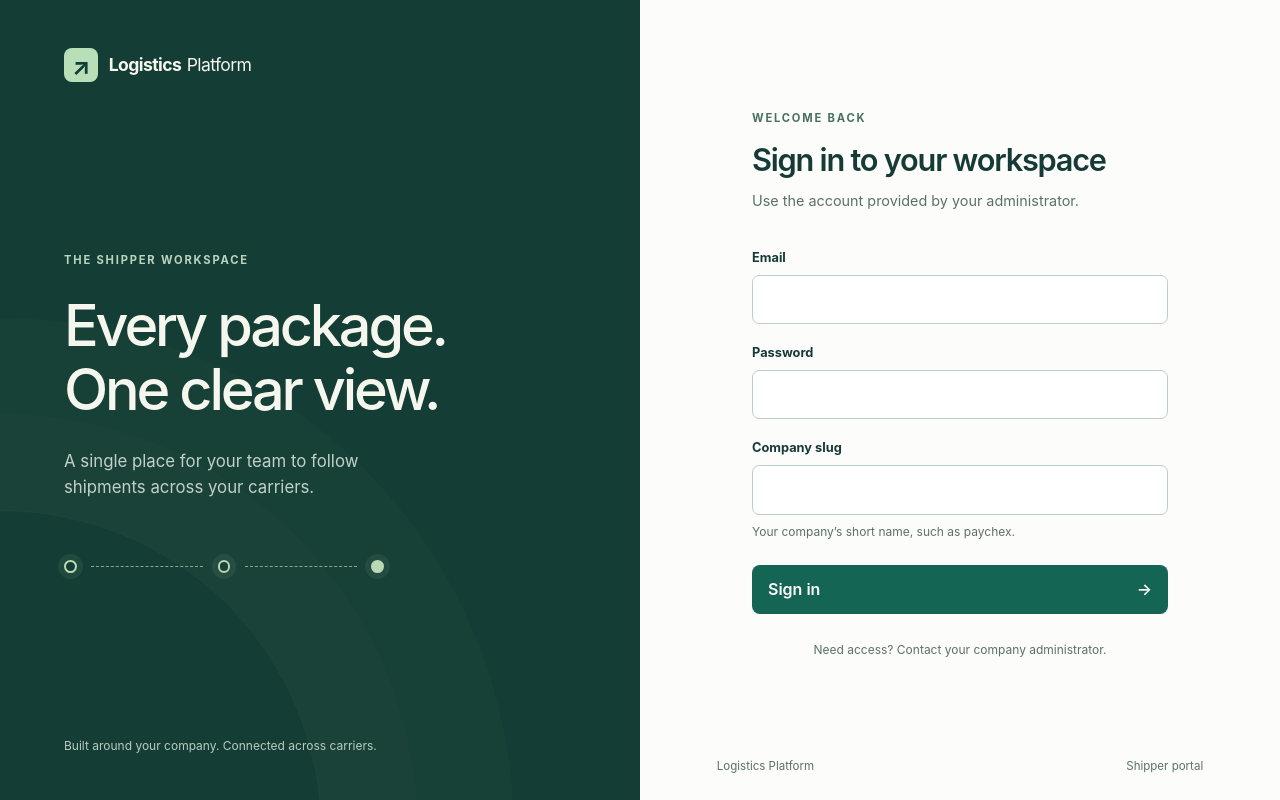
Scenario: shows generic invalid credentials and clears the password
This screenshot has width=1280, height=800.
Expected: the button "Sign in →" is shown, [752,565,1168,614]
In the field labelled "Email": (960, 299) [752,275,1168,324], type "admin@paychex.example"
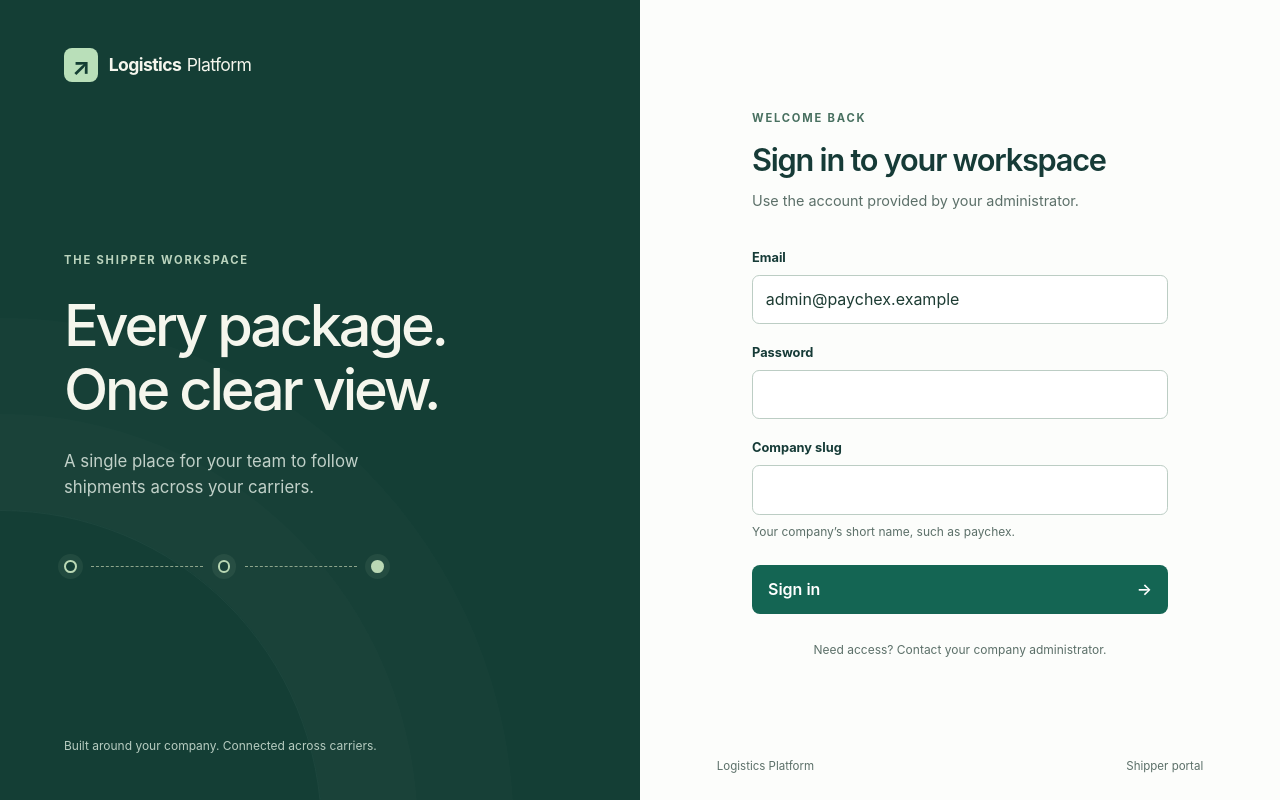
In the password field labelled "Password": (960, 395) [752,370,1168,419], type "synthetic test password"
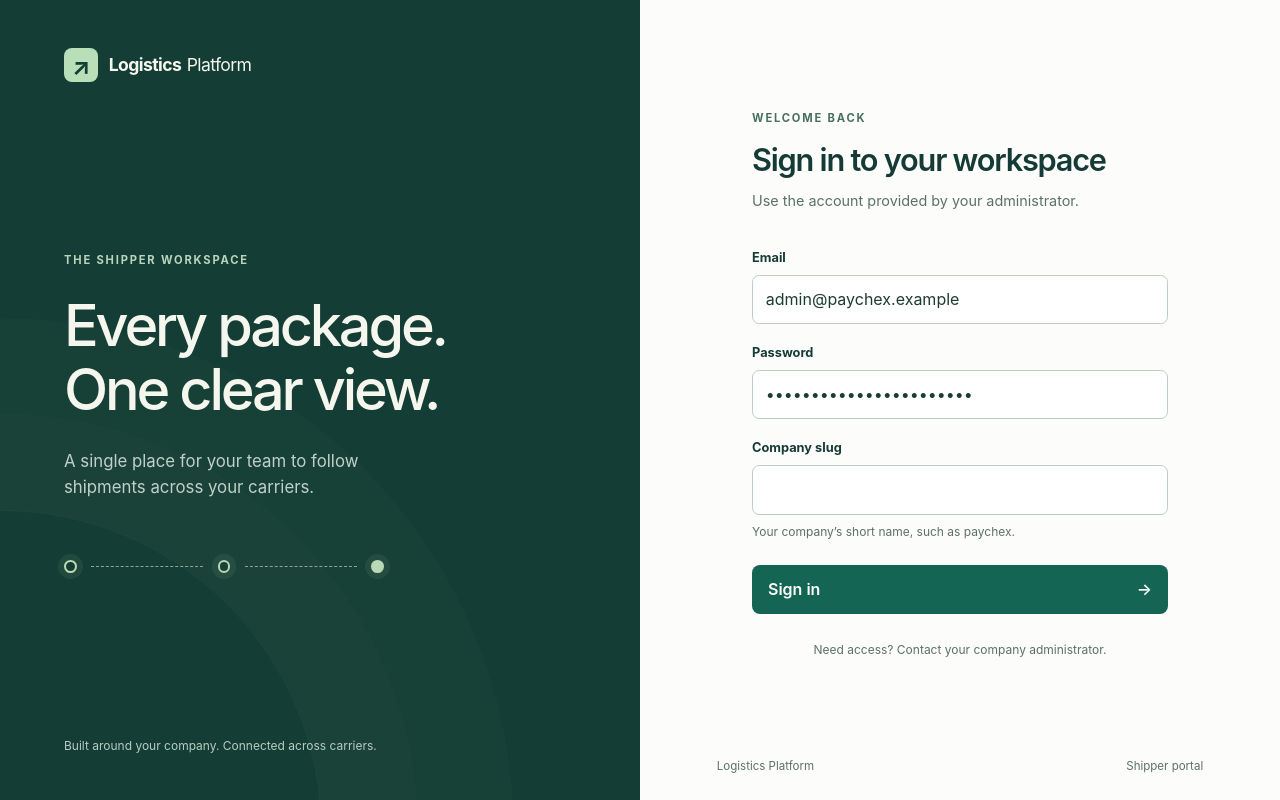
In the field labelled "Company slug": (960, 490) [752,465,1168,515], type "paychex"
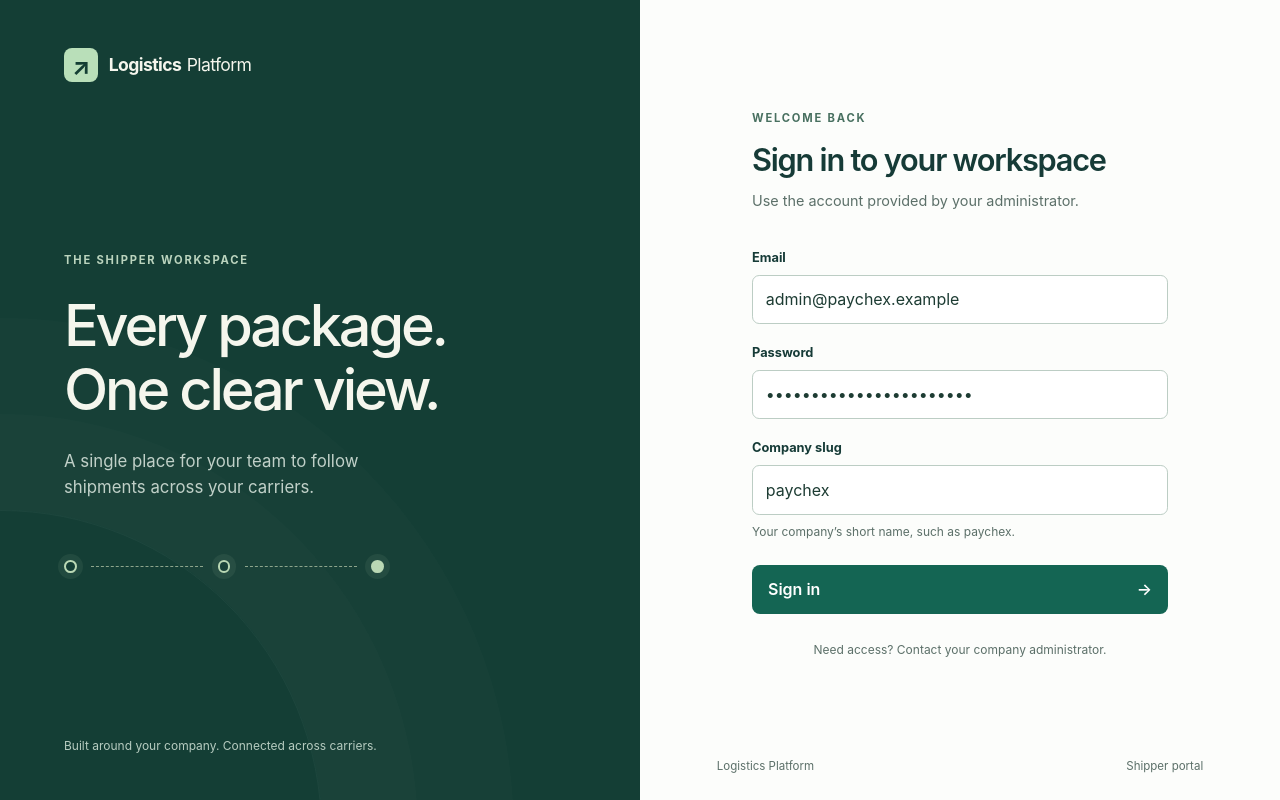
Click the button "Sign in →": (794, 589) [752,565,1168,614]
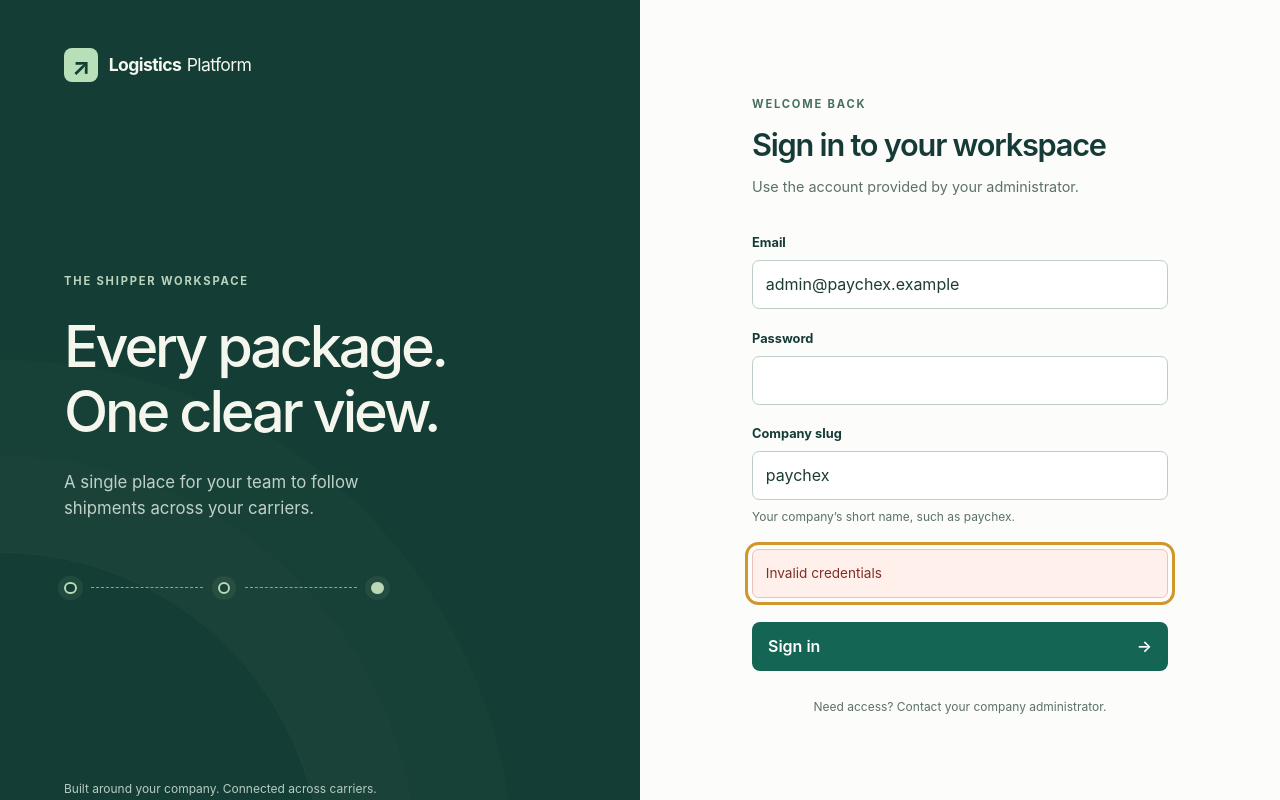
Result: the message reads "Invalid credentials" at [766,565,882,581]
Result: the password field labelled "Password" is empty at [752,356,1168,405]
